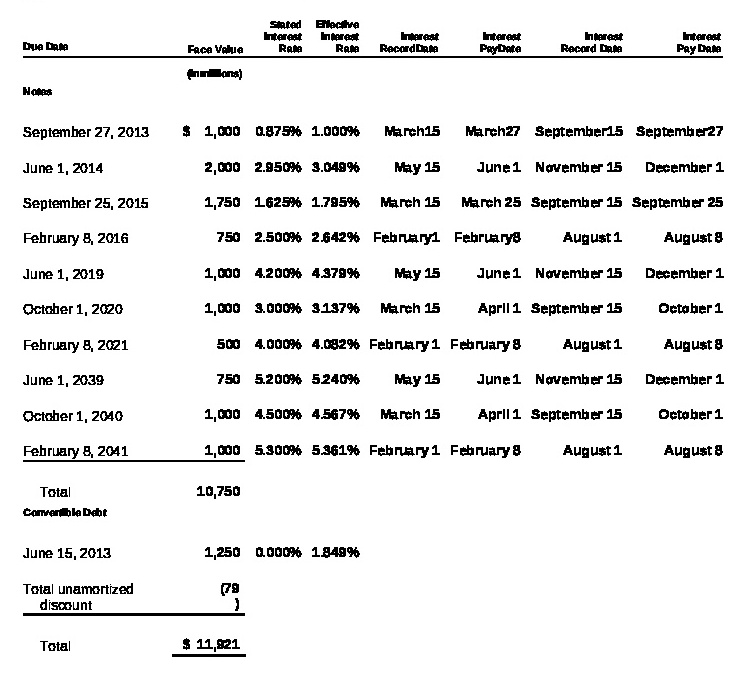table: (0, 0, 753, 673)
